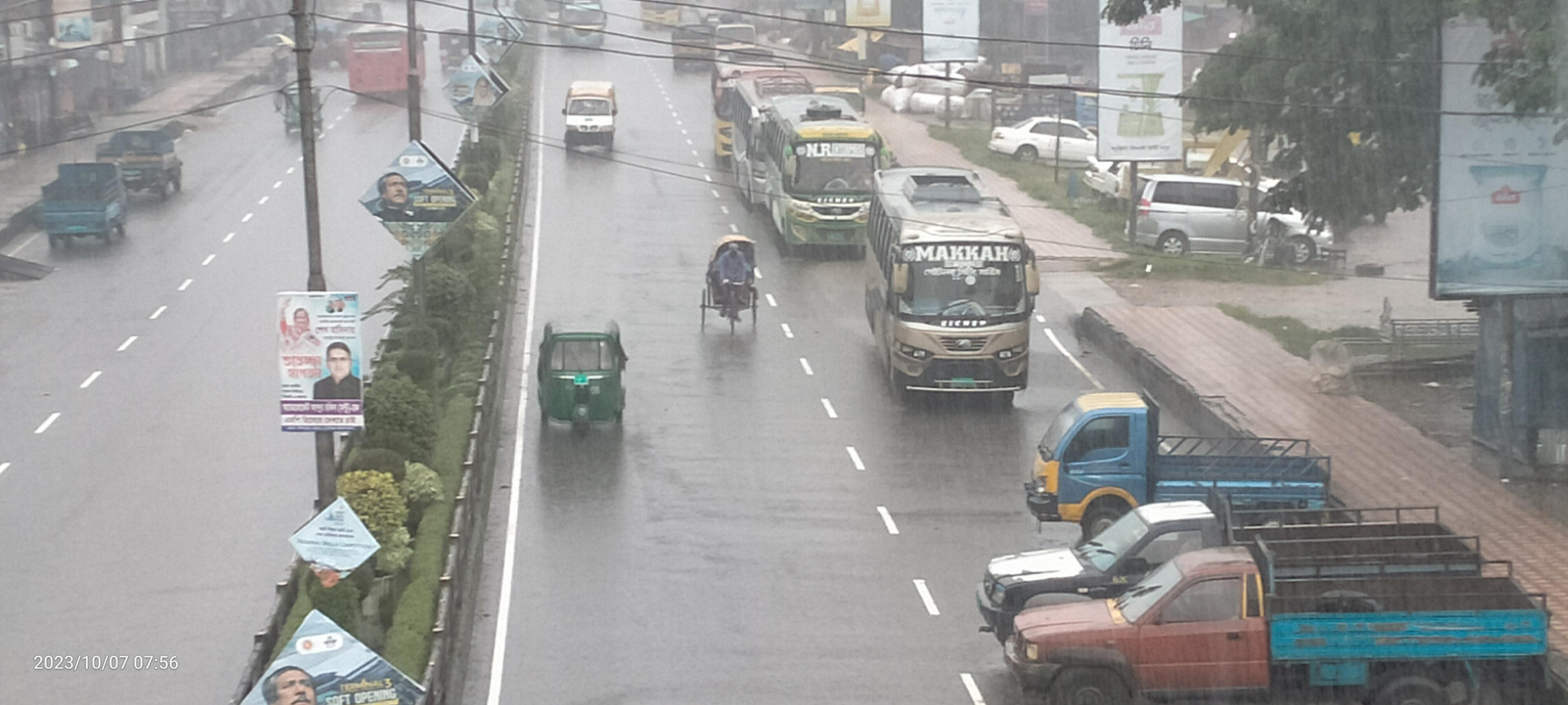Bus: (848, 160, 1058, 417), (746, 83, 886, 269), (334, 14, 439, 113), (550, 0, 621, 61)
Car: (1116, 165, 1366, 279), (982, 107, 1132, 169), (688, 224, 768, 334), (555, 72, 629, 164)
Truck: (1002, 536, 1568, 705), (964, 498, 1488, 620), (1005, 376, 1377, 523), (24, 154, 136, 282), (93, 114, 201, 201)
